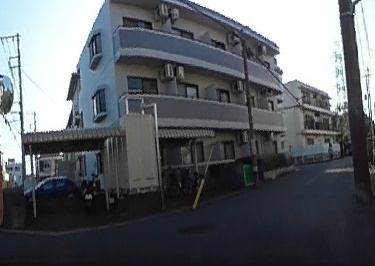person: (326, 142, 334, 161)
